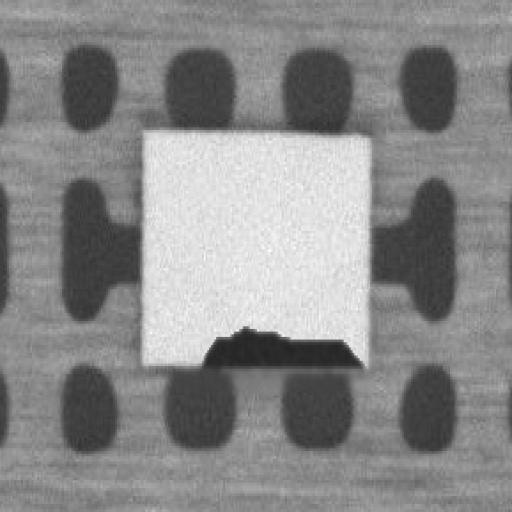DIE_BROKEN: (200, 318, 363, 366)
